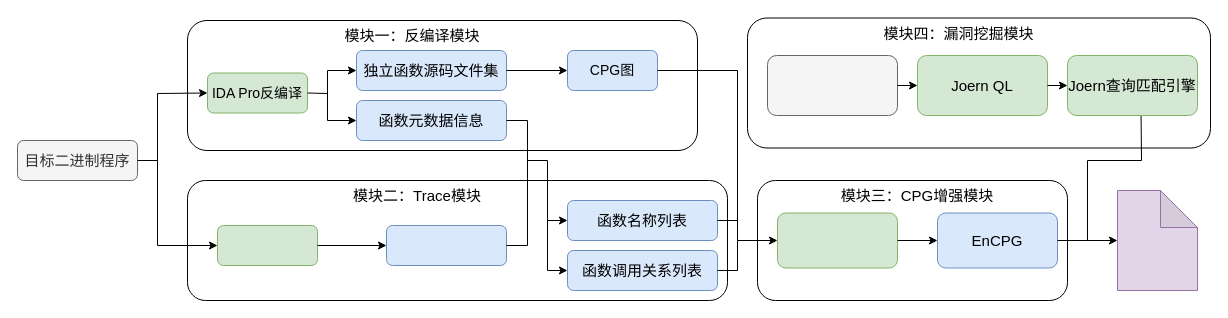
The diagram is 1228 pixels wide and 318 high, and some of its shapes have lost their labels. The shapes that lost their labels are listed below. From the top down, each one's centre as x and y in pixels, then its label:
At (832,85): "漏洞知识库 CVE/POC/commit".
At (267,245): "柳叶刀监控".
At (446,245): "原始Trace数据".
At (837,240): "Joern自定义插件".
At (1157,240): "漏洞报告".
